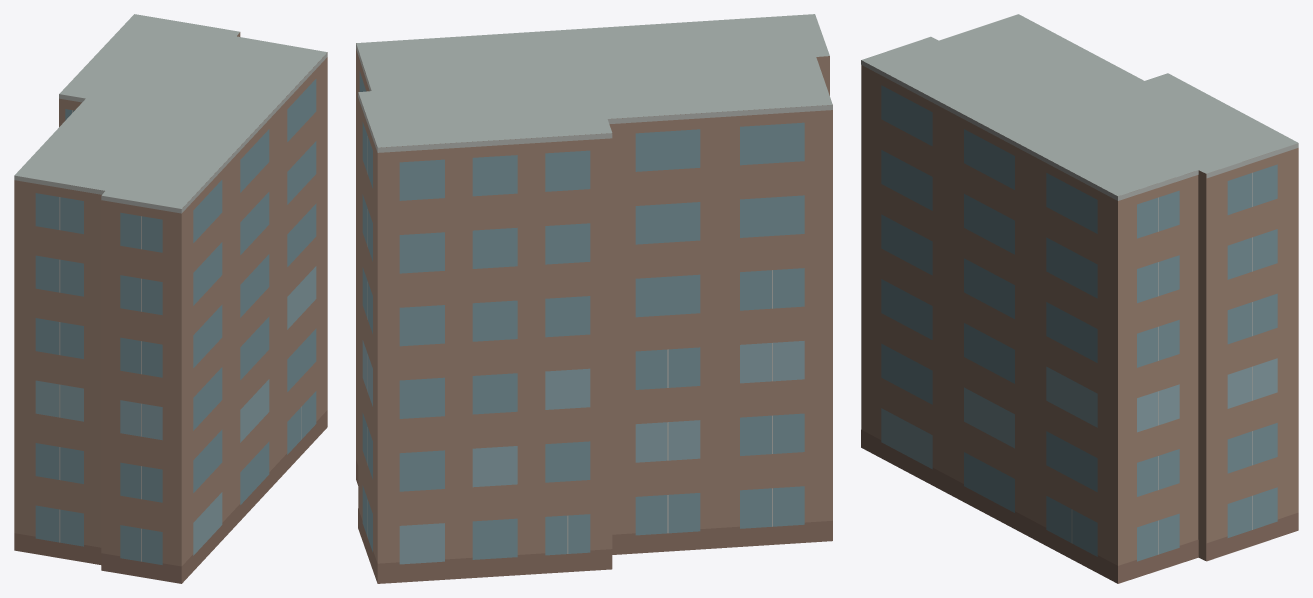
File: survey-upis-32581430.glb
The picture shows the model from 3 angles, left to right: view 1: azimuth 30°, elevation 25°; view 2: azimuth 150°, elevation 25°; view 3: azimuth 270°, elevation 25°; orthographic projection. The views are drawn at different scales.
Visible parts, largest first — view 1: survey-upis-32581430.tmp; view 2: survey-upis-32581430.tmp; view 3: survey-upis-32581430.tmp.
Part boxes in pixels (x1=…): survey-upis-32581430.tmp: x1=14, y1=14, x2=327, y2=583; survey-upis-32581430.tmp: x1=356, y1=14, x2=832, y2=583; survey-upis-32581430.tmp: x1=861, y1=14, x2=1298, y2=583.
Size of the model in its own units: 20.39 by 20.2 by 20.68.
